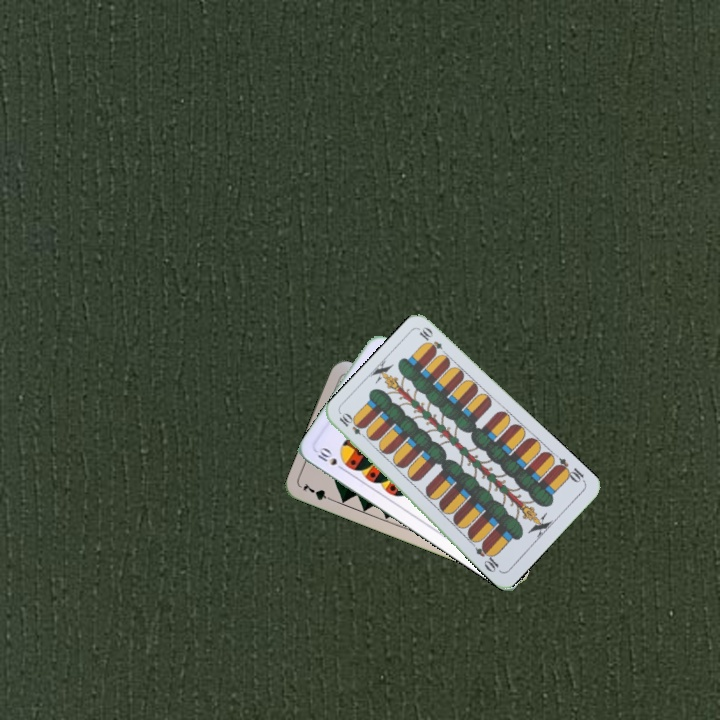E10: (551, 454, 588, 486), (335, 410, 371, 442)
G7: (299, 479, 337, 504)
S10: (312, 443, 348, 474)
